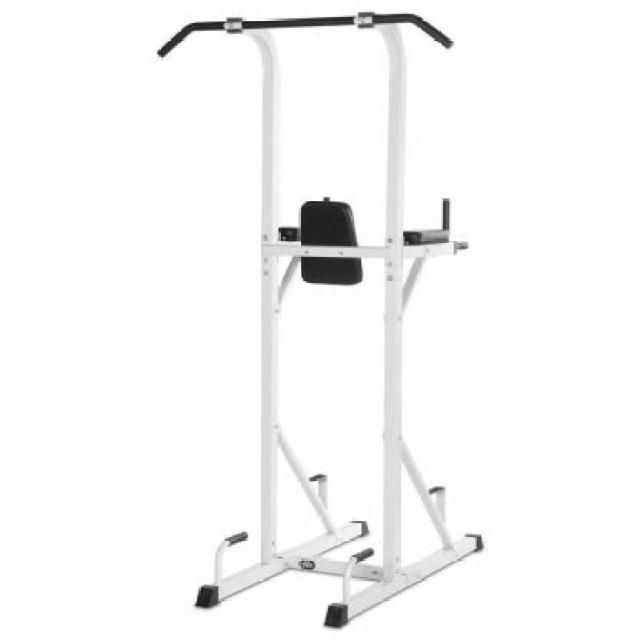chinning dipping: (157, 10, 485, 628)
